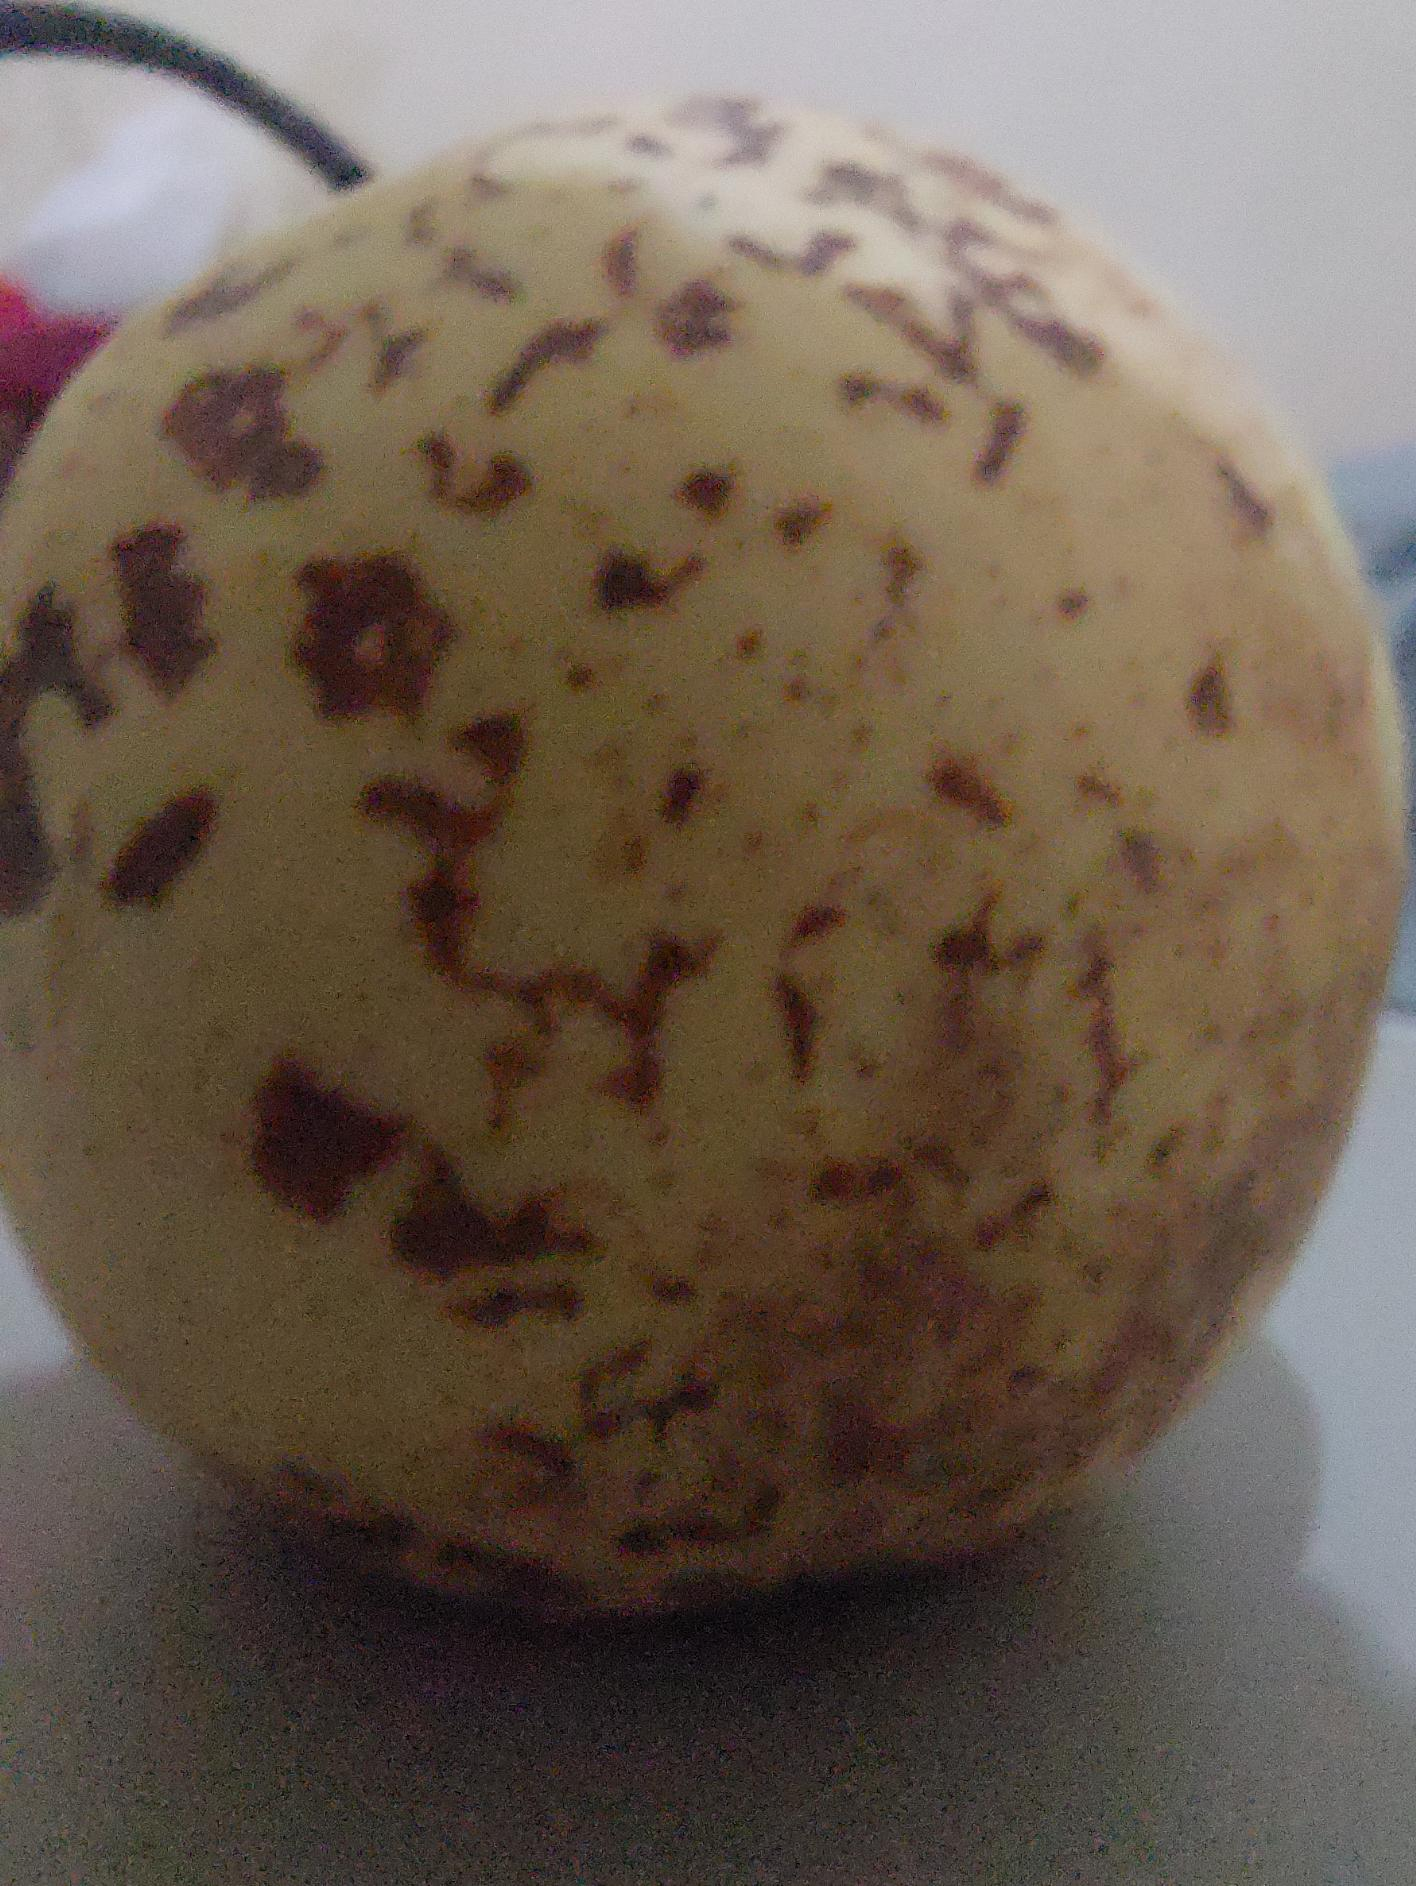Bad Pear: (0, 0, 1416, 1624)
